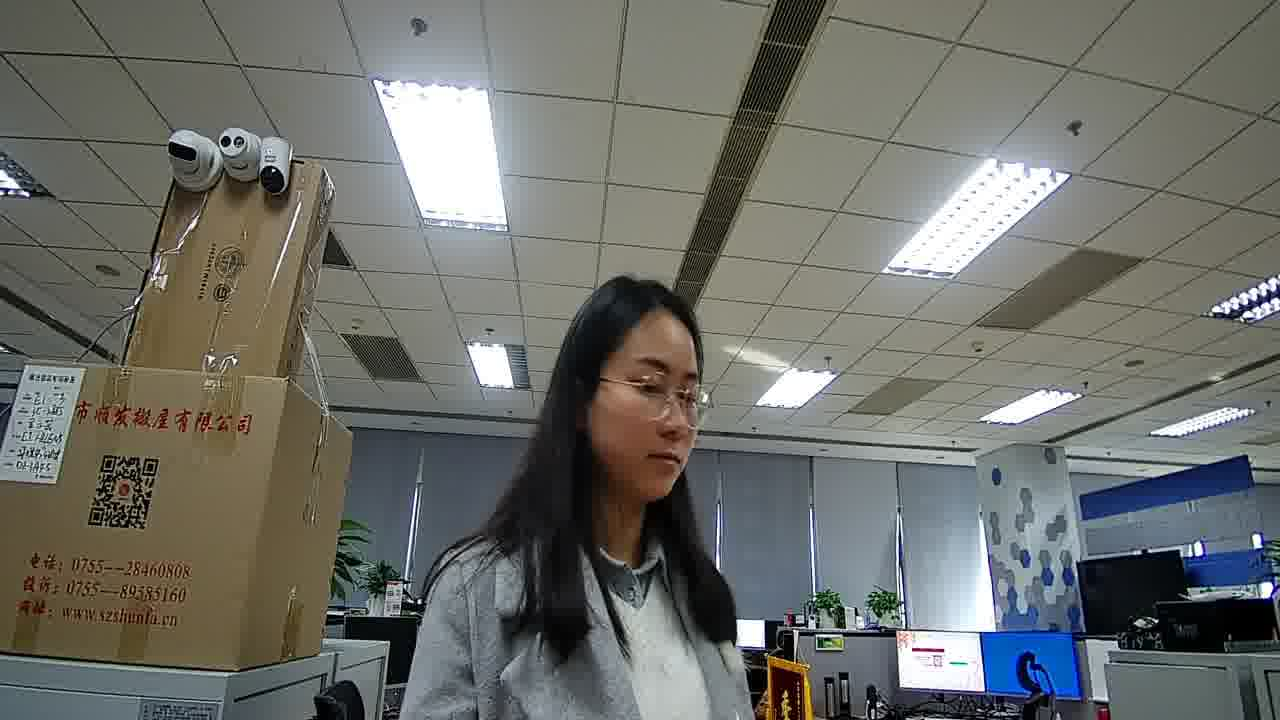face: (587, 306, 706, 505)
person: (417, 278, 743, 665)
